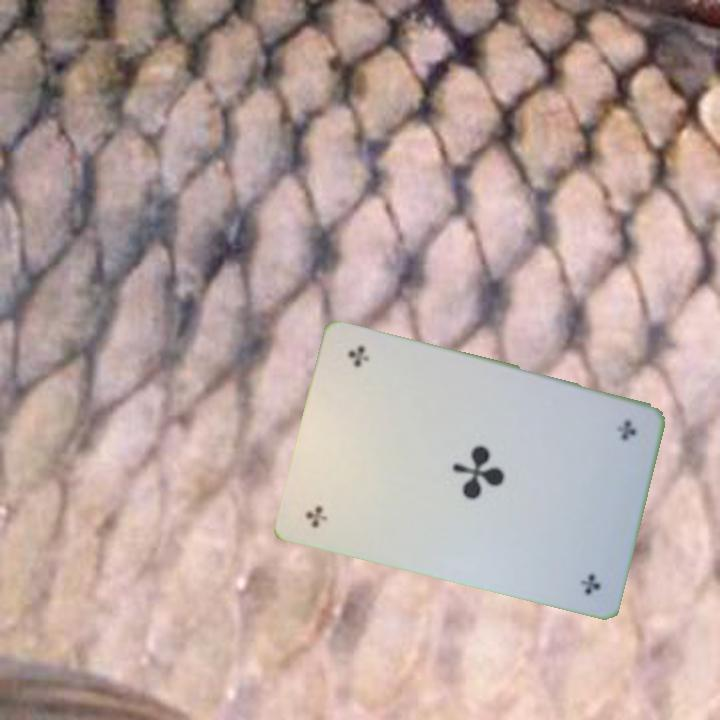c_a.png: (543, 395, 650, 511), (292, 429, 398, 546)
